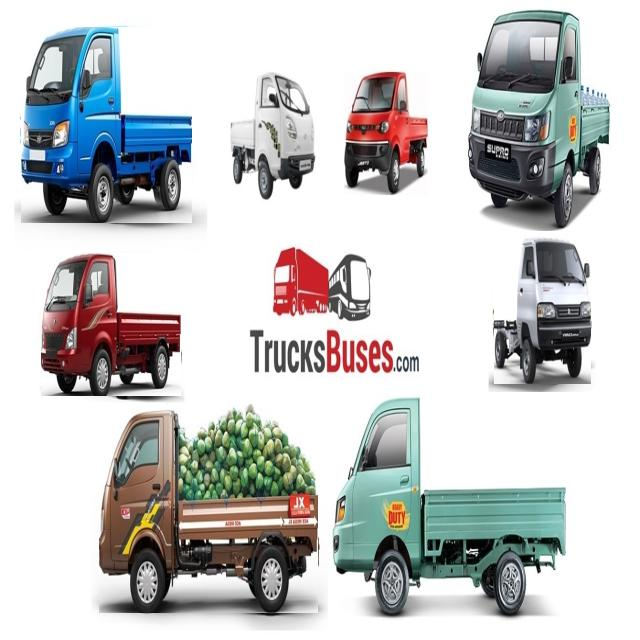truck: (332, 399, 565, 614), (100, 404, 318, 613), (21, 27, 192, 223), (468, 10, 610, 228), (468, 10, 609, 227), (41, 253, 181, 396), (494, 236, 591, 384), (230, 72, 315, 198), (345, 72, 428, 192)
